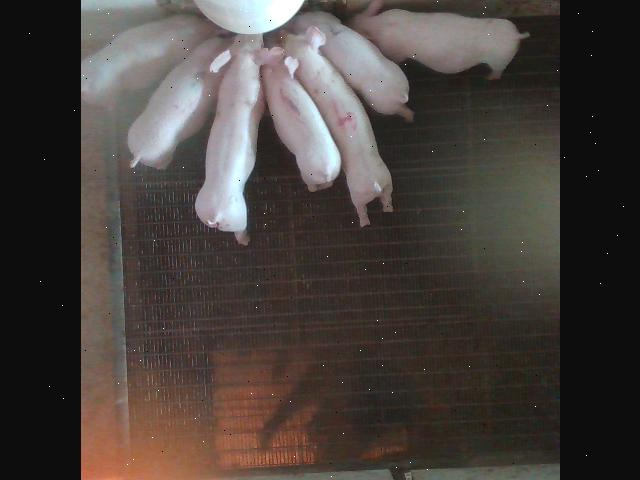pig-1: (261, 63, 340, 189)
pig-4: (284, 28, 391, 225)
